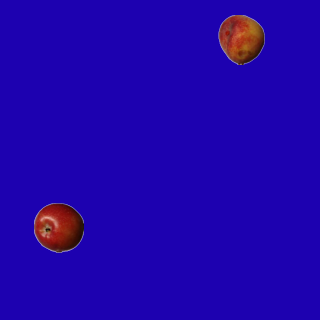Apple Braeburn: (33, 202, 83, 252)
Peach: (216, 14, 266, 64)
